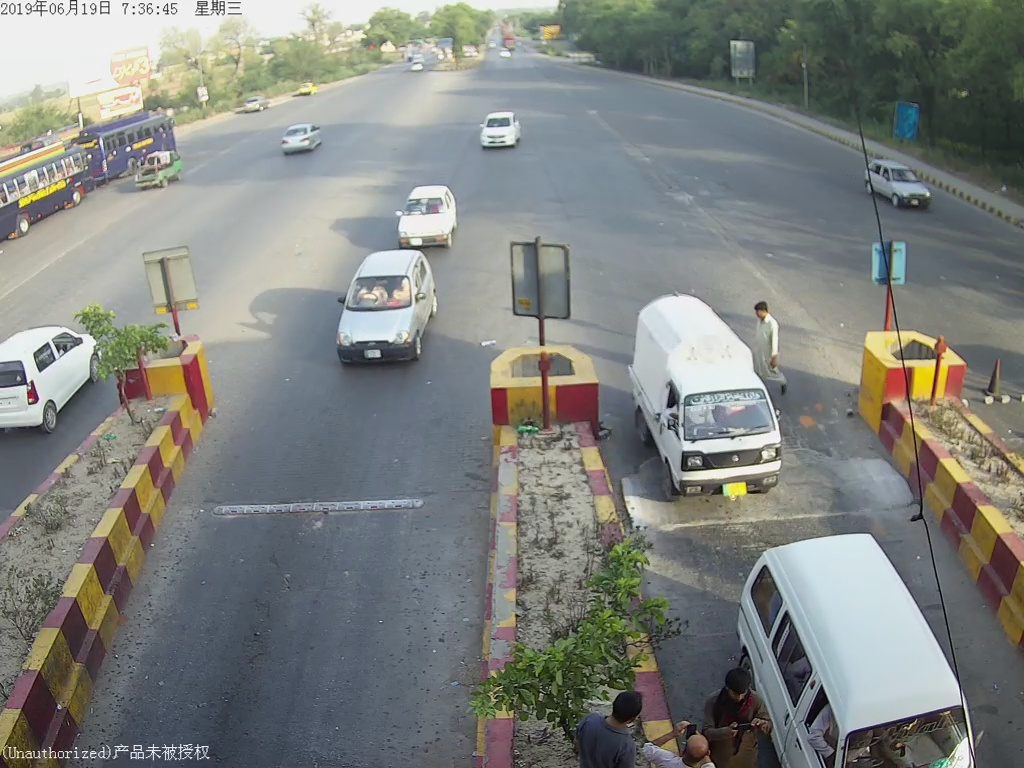Cat-1: (629, 297, 788, 501), (331, 244, 432, 365), (400, 181, 461, 249), (862, 158, 933, 212), (474, 109, 522, 152)
